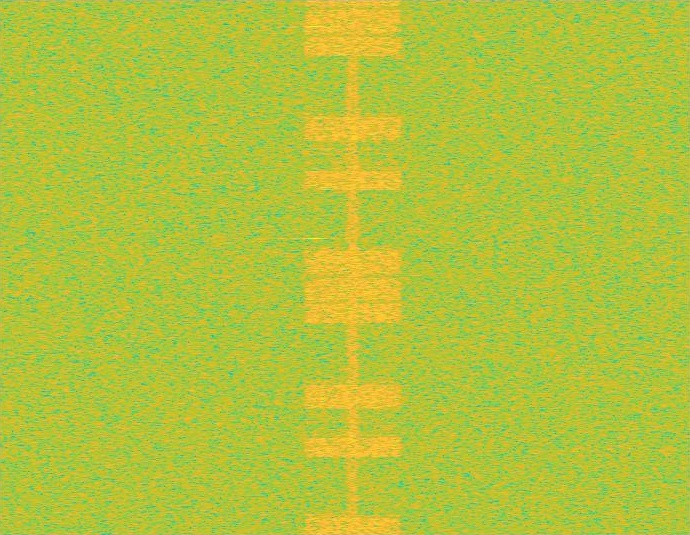DSSS: (346, 0, 360, 534)
LTE: (301, 0, 405, 534)
Radar: (308, 0, 322, 534)
